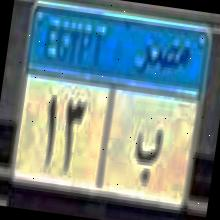1: (37, 92, 63, 178)
3: (56, 94, 89, 177)
baa: (126, 122, 166, 190)
